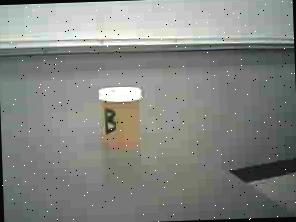Bottle B: (89, 82, 151, 156)
